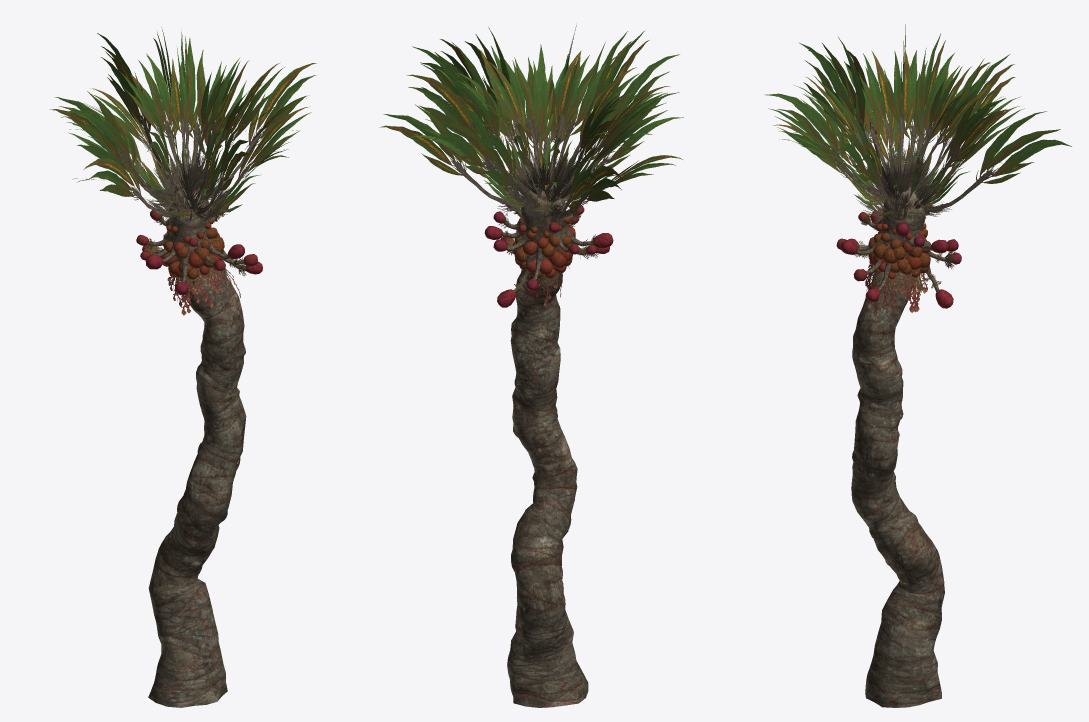
File: Tree - Alien Tree 06 2-DtpEnD-o.glb
3 renders of one model, left to right at view 1: azimuth 30°, elevation 25°; view 2: azimuth 150°, elevation 25°; view 3: azimuth 270°, elevation 25°, orthographic.
Parts seen in each view (by area): view 1: Tree6_2(Clone); view 2: Tree6_2(Clone); view 3: Tree6_2(Clone).
Part boxes in pixels (box(x1,y1,x2,y2)): Tree6_2(Clone): box(50, 27, 316, 707); Tree6_2(Clone): box(379, 25, 683, 707); Tree6_2(Clone): box(764, 24, 1071, 707).
Bounding box in the file's own units: 6.6 × 13.95 × 6.58.
Materials: 3 (3 with a texture image).
